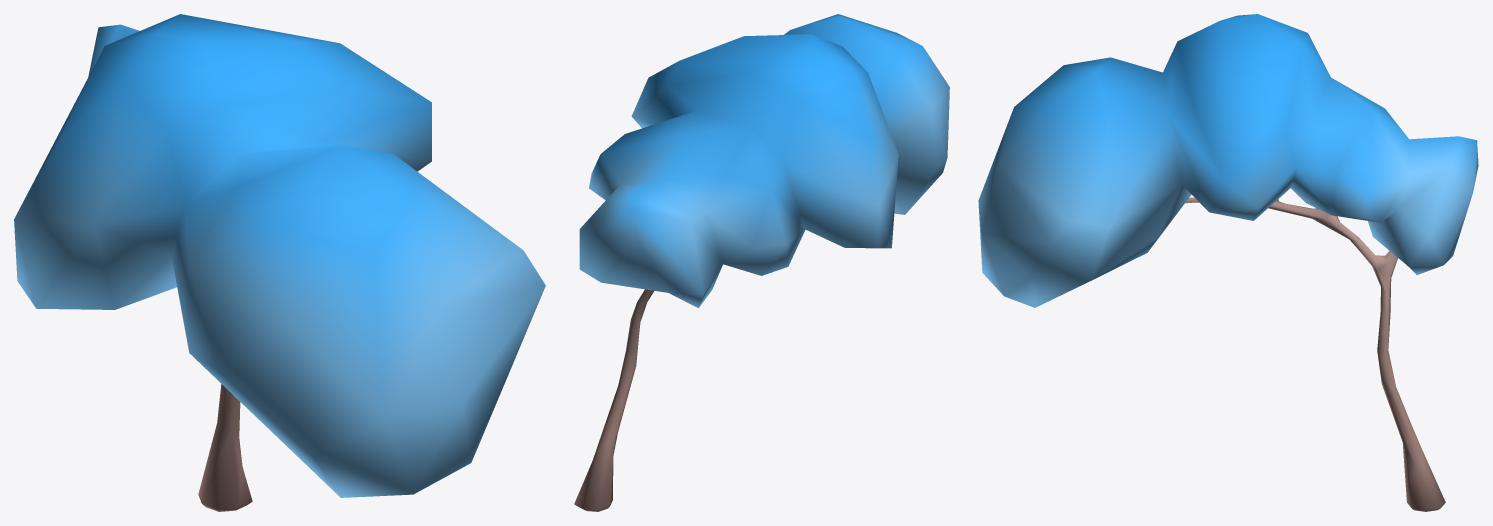
File: Tree03_M_Blue.fbx
3 views of the same model, side by side, from view 1: azimuth 30°, elevation 25°; view 2: azimuth 150°, elevation 25°; view 3: azimuth 270°, elevation 25° (orthographic). The views are drawn at different scales.
Visible parts, largest first — view 1: Tree03_M_Blue; view 2: Tree03_M_Blue; view 3: Tree03_M_Blue.
Part boxes in pixels (left/top/right/bottom): Tree03_M_Blue: left=14, top=14, right=545, bottom=511; Tree03_M_Blue: left=574, top=14, right=949, bottom=511; Tree03_M_Blue: left=978, top=14, right=1478, bottom=511.
Bounding box in the file's own units: 3.95 × 6.11 × 6.47.
